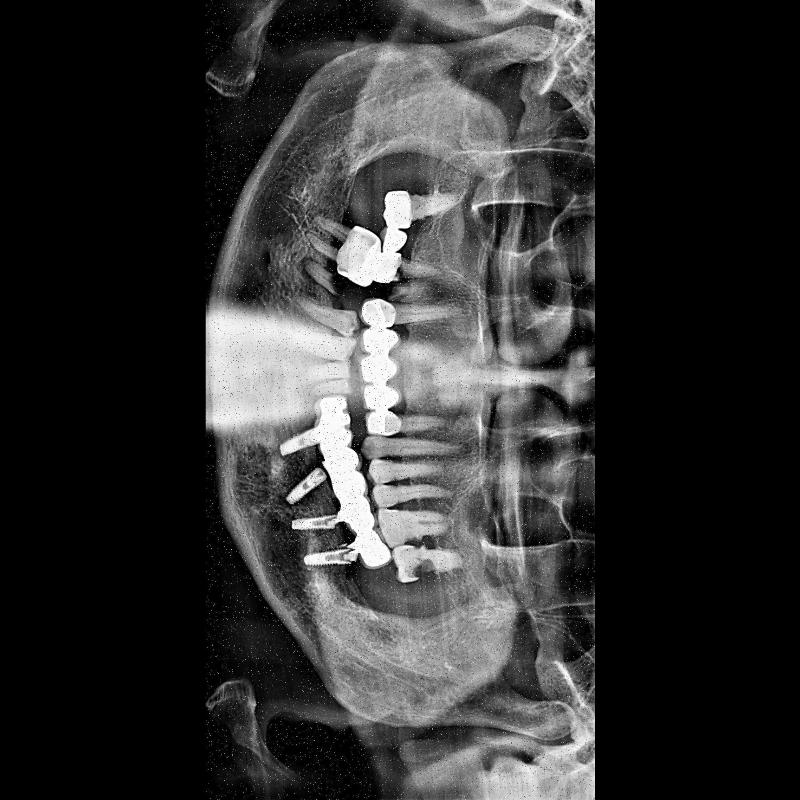osstem: (278, 463, 332, 505), (299, 540, 357, 578), (288, 500, 336, 540)
